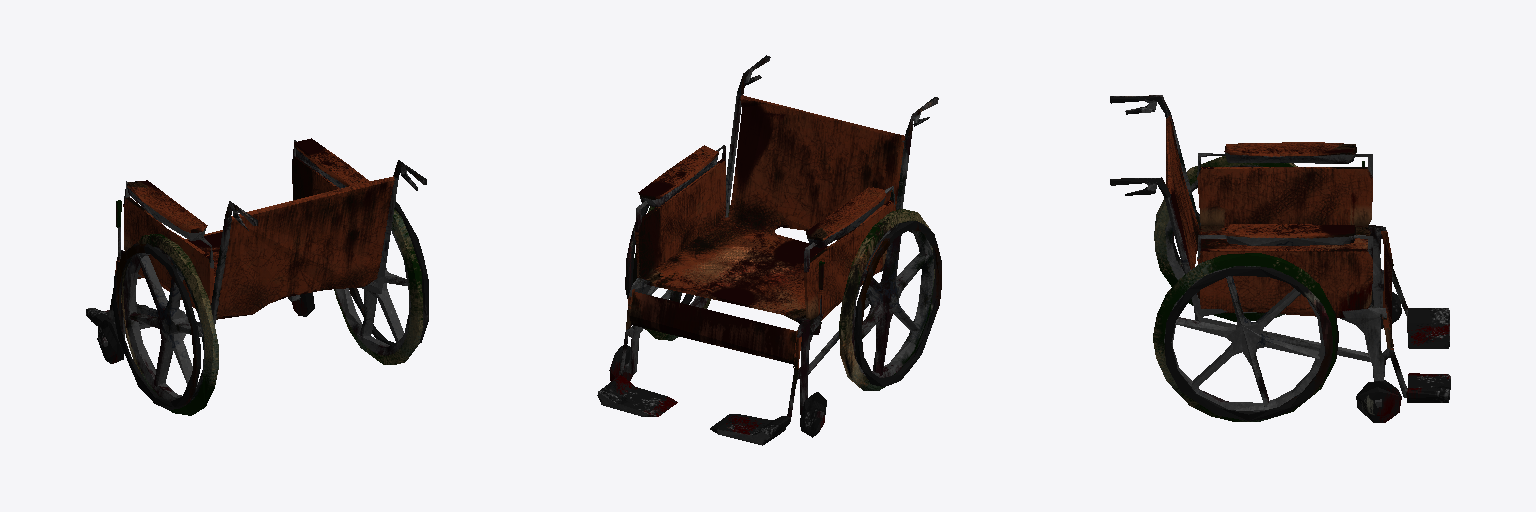
The picture shows the model from 3 angles: view 1: azimuth 30°, elevation 25°; view 2: azimuth 150°, elevation 25°; view 3: azimuth 270°, elevation 25°; orthographic projection.
Parts seen in each view (by area): view 1: Mesh_LOD3; view 2: Mesh_LOD3; view 3: Mesh_LOD3.
Boxes of the visible parts, <box> form: Mesh_LOD3: <box>86,138,428,415</box>; Mesh_LOD3: <box>597,55,941,445</box>; Mesh_LOD3: <box>1110,95,1450,422</box>.
Bounding box in the file's own units: 13.75 × 13.31 × 17.26.
1 materials, 1 textured.